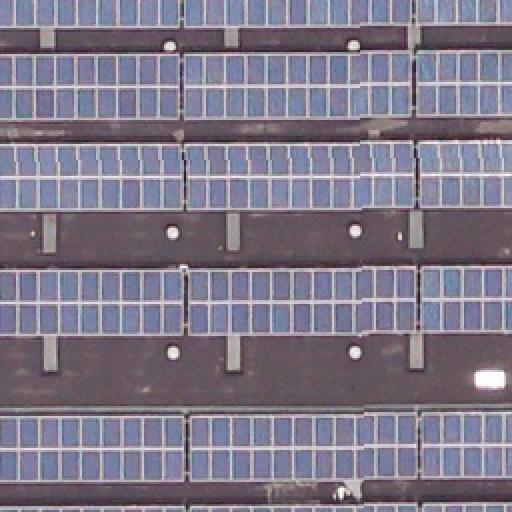solar-panel: (183, 141, 417, 211), (181, 53, 411, 123), (190, 412, 418, 480), (188, 267, 416, 333), (0, 53, 180, 123), (0, 414, 184, 482), (0, 144, 184, 212), (0, 271, 184, 337), (184, 1, 412, 31), (417, 141, 511, 211), (416, 50, 512, 118), (420, 410, 512, 478), (420, 264, 512, 332), (0, 1, 180, 31), (416, 0, 512, 26), (190, 504, 418, 512), (0, 505, 186, 511), (422, 504, 512, 512)
